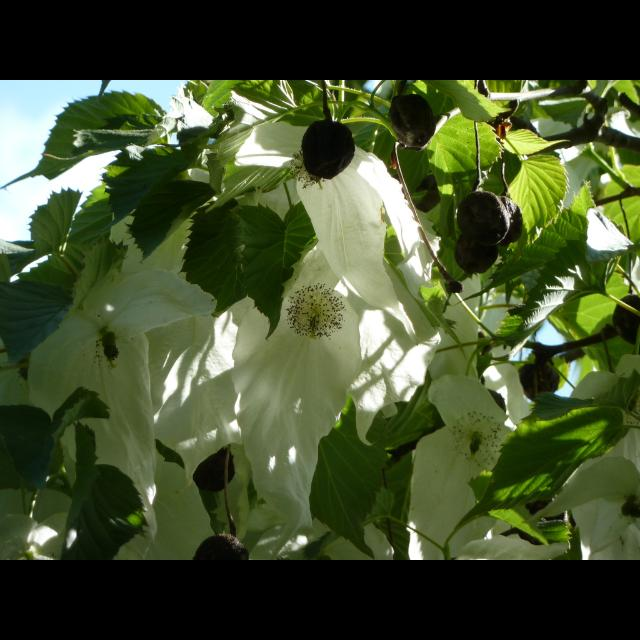Flower: (1, 122, 640, 560), (280, 274, 336, 338)
